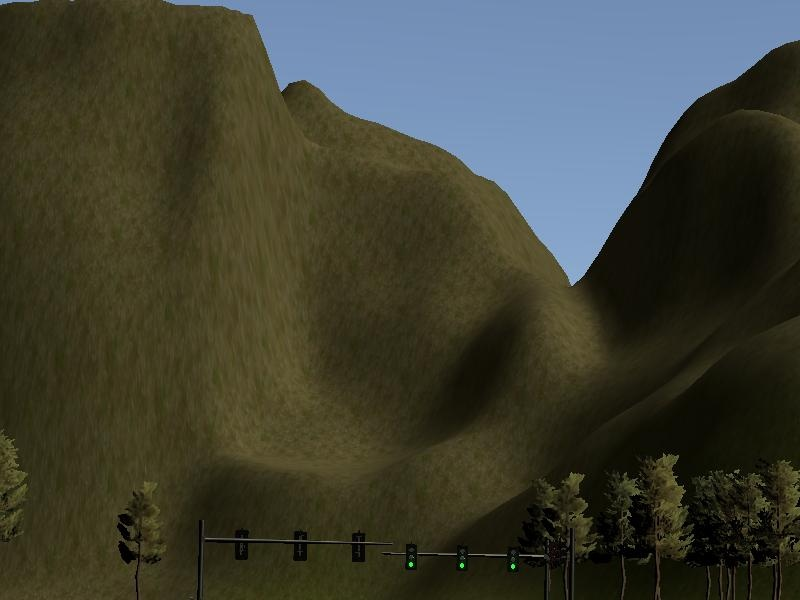green: (506, 546, 519, 571), (404, 544, 416, 571), (457, 544, 468, 570)
